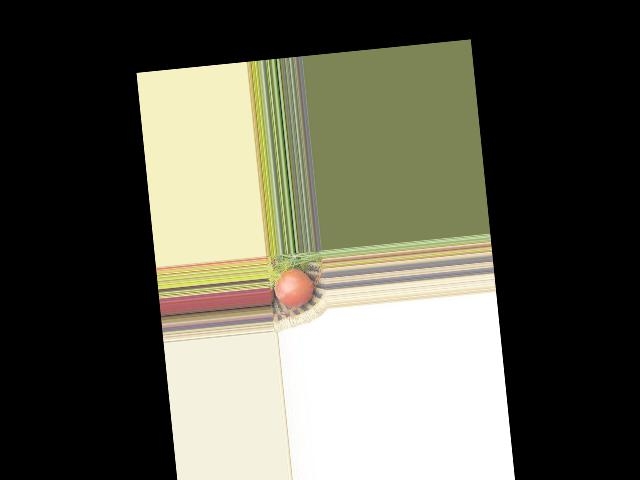tomato: (273, 266, 314, 308)
